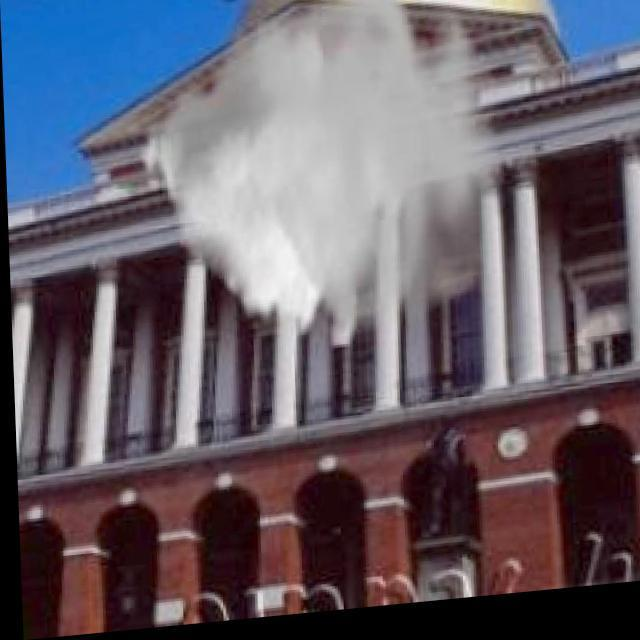Smoke: (143, 0, 512, 367)
